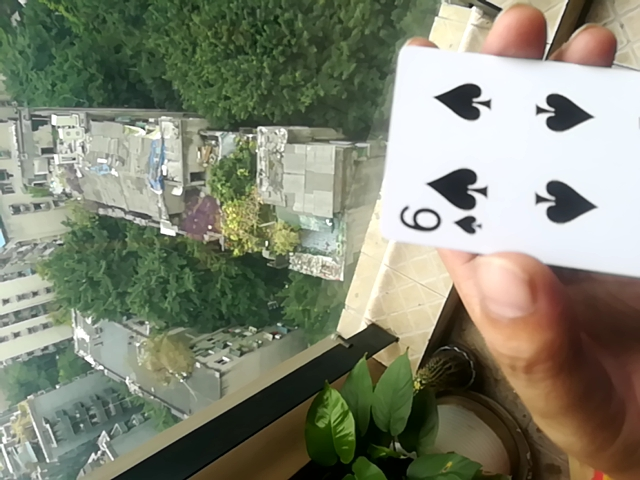ht 6: (373, 38, 637, 297)
